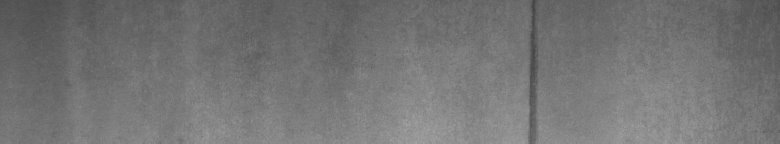hd: (521, 4, 544, 136)
